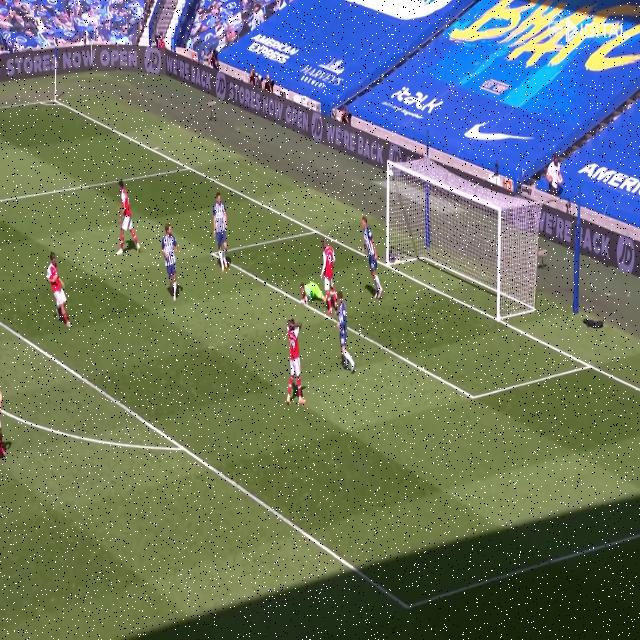GoalKeeper: (294, 273, 328, 305)
TEAM 1: (43, 252, 70, 331), (117, 181, 140, 258), (284, 320, 304, 408), (321, 234, 338, 309)
TEAM 2: (361, 215, 383, 299), (336, 292, 354, 388), (212, 192, 230, 268), (161, 226, 178, 299)
